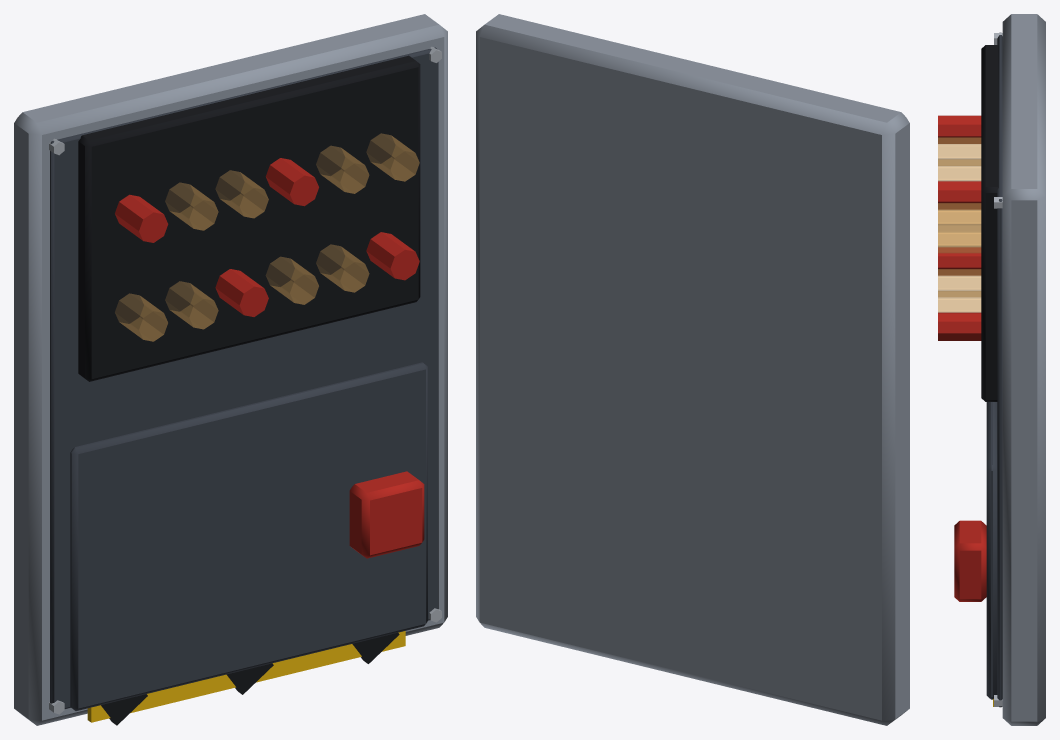
Rendered from controlpanel_fuse_box.glb.
3 views of the same model, side by side, from view 1: azimuth 30°, elevation 25°; view 2: azimuth 150°, elevation 25°; view 3: azimuth 270°, elevation 25° (orthographic). The views are drawn at different scales.
Visible parts, largest first — view 1: controlpanel_fuse_box; view 2: controlpanel_fuse_box; view 3: controlpanel_fuse_box.
Part boxes in pixels (x1=…): controlpanel_fuse_box: x1=14, y1=14, x2=447, y2=725; controlpanel_fuse_box: x1=476, y1=14, x2=909, y2=725; controlpanel_fuse_box: x1=938, y1=14, x2=1045, y2=725.
Bounding box in the file's own units: 0.4 × 0.5578 × 0.1.
